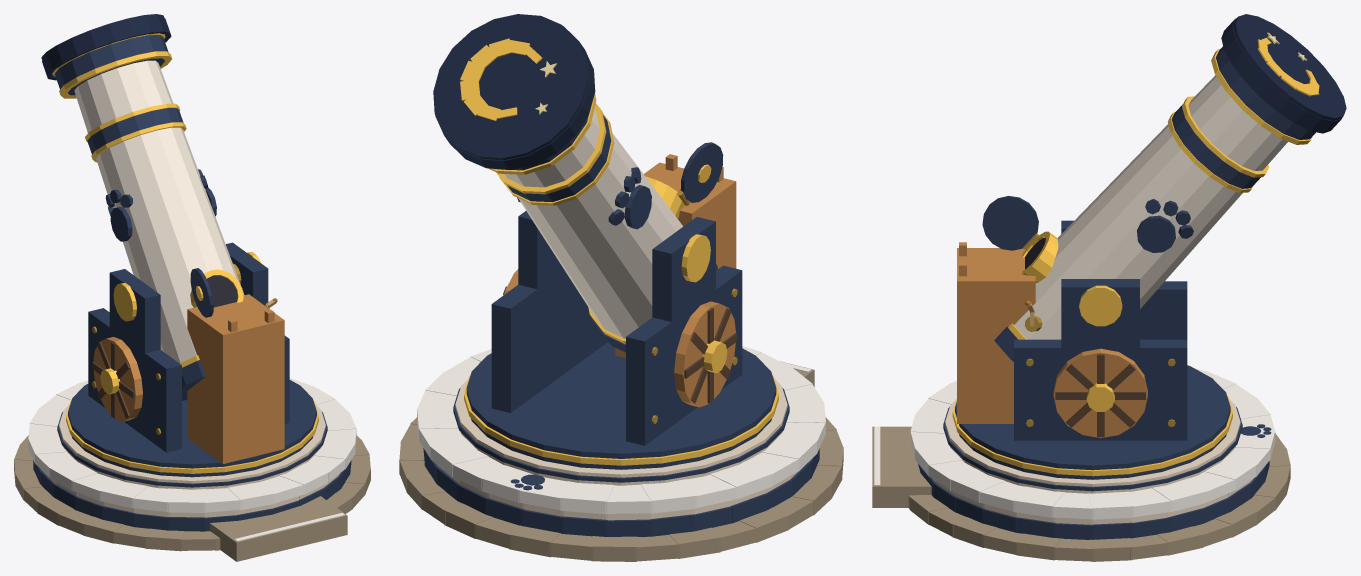
Rendered from CatCafe_Camp_Cannon_Castle.glb.
3 views of the same model, side by side, from view 1: azimuth 30°, elevation 25°; view 2: azimuth 150°, elevation 25°; view 3: azimuth 270°, elevation 25° (orthographic). The views are drawn at different scales.
Visible parts, largest first — view 1: CatCafe_Camp_Cannon_Castle_Turret, CatCafe_Camp_Cannon_Castle, CatCafe_Camp_Cannon_Castle_Climb, CatCafe_Camp_Cannon_Castle_MoonCover; view 2: CatCafe_Camp_Cannon_Castle_Turret, CatCafe_Camp_Cannon_Castle, CatCafe_Camp_Cannon_Castle_MoonCover, CatCafe_Camp_Cannon_Castle_Climb; view 3: CatCafe_Camp_Cannon_Castle_Turret, CatCafe_Camp_Cannon_Castle, CatCafe_Camp_Cannon_Castle_Climb, CatCafe_Camp_Cannon_Castle_MoonCover.
Boxes of the visible parts, <box> form: CatCafe_Camp_Cannon_Castle_Turret: <box>52,33,318,477</box>; CatCafe_Camp_Cannon_Castle: <box>14,378,370,561</box>; CatCafe_Camp_Cannon_Castle_Climb: <box>187,294,284,463</box>; CatCafe_Camp_Cannon_Castle_MoonCover: <box>41,14,171,80</box>; CatCafe_Camp_Cannon_Castle_Turret: <box>464,94,778,469</box>; CatCafe_Camp_Cannon_Castle: <box>399,346,843,561</box>; CatCafe_Camp_Cannon_Castle_MoonCover: <box>433,14,595,169</box>; CatCafe_Camp_Cannon_Castle_Climb: <box>615,162,736,357</box>; CatCafe_Camp_Cannon_Castle_Turret: <box>952,46,1315,479</box>; CatCafe_Camp_Cannon_Castle: <box>872,368,1290,561</box>; CatCafe_Camp_Cannon_Castle_Climb: <box>957,248,1035,423</box>; CatCafe_Camp_Cannon_Castle_MoonCover: <box>1221,14,1346,133</box>.
Bounding box in the file's own units: 7.54 × 9.55 × 9.03.
1 material, 1 textured.
